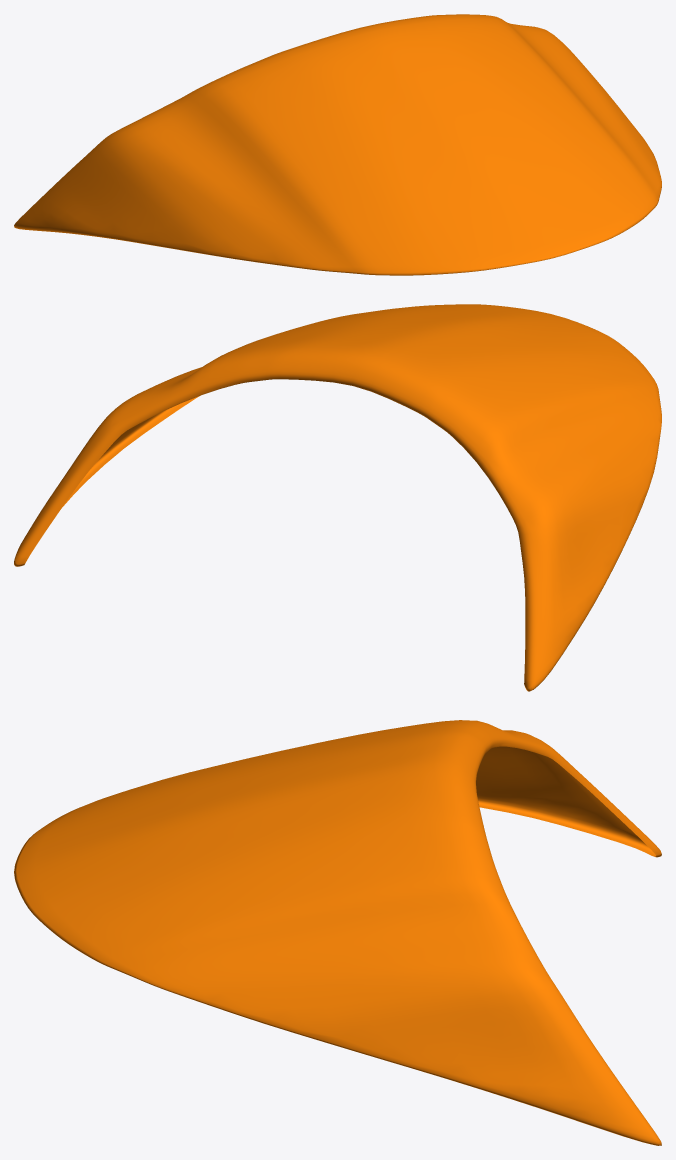
The model's file is PassengerSeat_COVER_STOCK.glb.
3 renders of one model, top to bottom at view 1: azimuth 30°, elevation 25°; view 2: azimuth 150°, elevation 25°; view 3: azimuth 270°, elevation 25°, orthographic. The views are drawn at different scales.
Parts seen in each view (by area): view 1: PassengerSeat_Cover_Stock; view 2: PassengerSeat_Cover_Stock; view 3: PassengerSeat_Cover_Stock.
Boxes of the visible parts, x1,y1,x2,y2 form: PassengerSeat_Cover_Stock: [14, 14, 661, 275]; PassengerSeat_Cover_Stock: [14, 304, 661, 691]; PassengerSeat_Cover_Stock: [14, 720, 661, 1145].
Bounding box in the file's own units: 0.3864 × 0.1427 × 0.3543.
